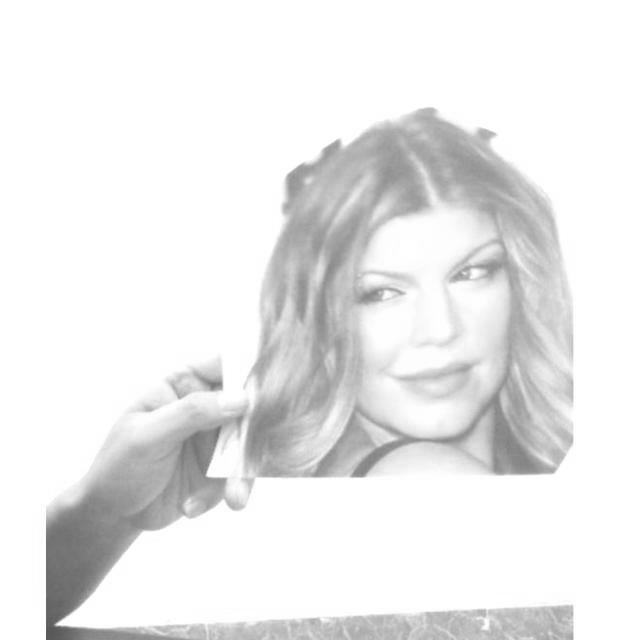fake: (186, 96, 574, 494)
